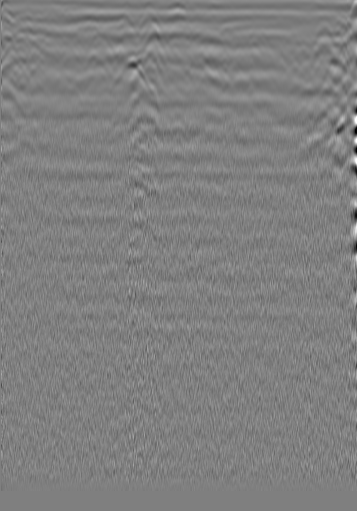가스: (120, 103, 161, 143)
상수: (316, 21, 336, 41)
오수: (21, 19, 41, 39)
우수: (173, 18, 193, 38)
